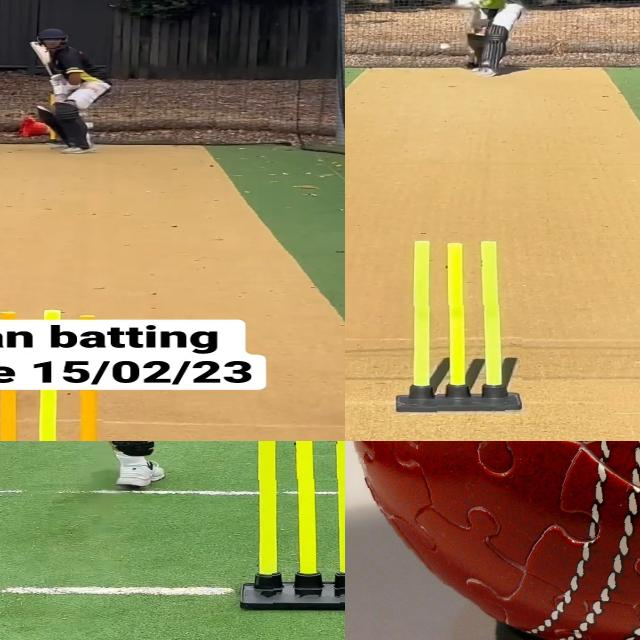Cricket ball: (345, 441, 640, 640), (437, 42, 452, 52)
Stumps: (402, 238, 522, 414), (237, 441, 345, 609), (0, 391, 103, 441)
